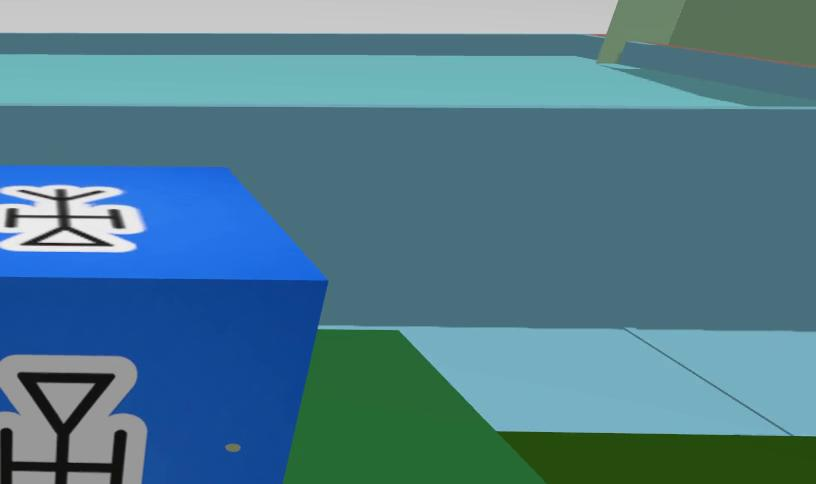KFS_REAL: (0, 166, 327, 484), (0, 356, 146, 484), (0, 186, 145, 251)
